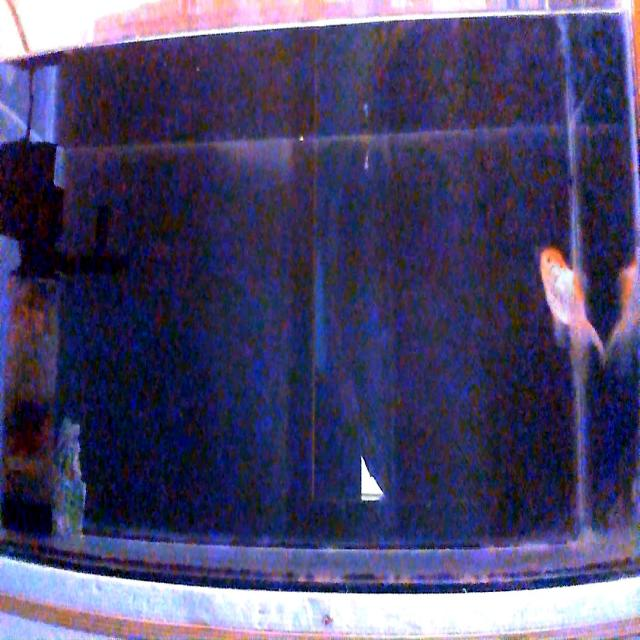fish: (538, 246, 604, 367), (604, 259, 638, 360)
